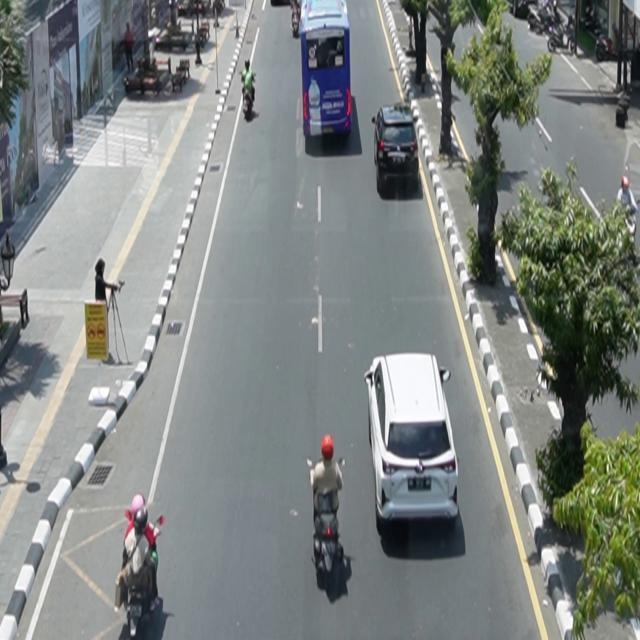bus: (300, 1, 353, 140)
car: (365, 353, 460, 529), (373, 103, 420, 192)
